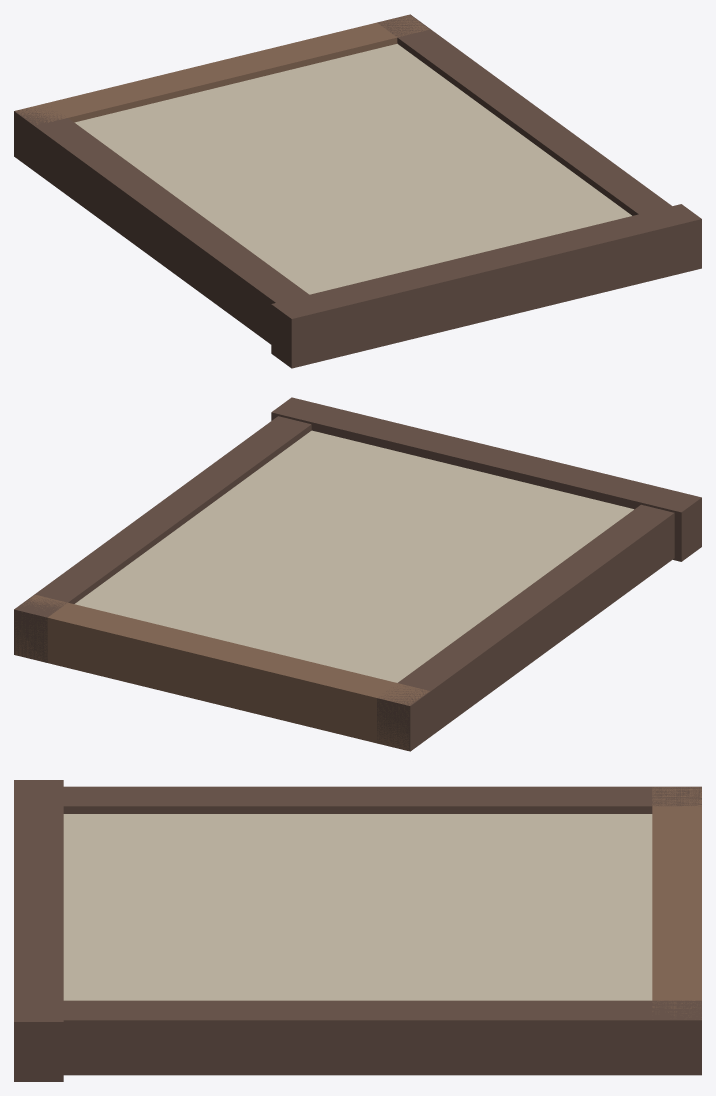
The model's file is tier02_half_timber_wall.glb.
3 renders of one model, top to bottom at view 1: azimuth 30°, elevation 25°; view 2: azimuth 150°, elevation 25°; view 3: azimuth 270°, elevation 25°, orthographic. The views are drawn at different scales.
Parts seen in each view (by area): view 1: tier02_half_timber_wall_000, tier02_half_timber_wall_003, tier02_half_timber_wall_001, tier02_half_timber_wall_002, tier02_half_timber_wall_004; view 2: tier02_half_timber_wall_000, tier02_half_timber_wall_004, tier02_half_timber_wall_001, tier02_half_timber_wall_003, tier02_half_timber_wall_002; view 3: tier02_half_timber_wall_000, tier02_half_timber_wall_002, tier02_half_timber_wall_001, tier02_half_timber_wall_003, tier02_half_timber_wall_004.
Part boxes in pixels (box(x1,y1,x2,y2)): tier02_half_timber_wall_000: box(74, 43, 631, 294); tier02_half_timber_wall_003: box(271, 204, 701, 368); tier02_half_timber_wall_001: box(14, 107, 332, 364); tier02_half_timber_wall_002: box(377, 14, 694, 275); tier02_half_timber_wall_004: box(16, 15, 429, 124); tier02_half_timber_wall_000: box(74, 430, 633, 682); tier02_half_timber_wall_004: box(15, 594, 429, 750); tier02_half_timber_wall_001: box(377, 504, 674, 751); tier02_half_timber_wall_003: box(271, 397, 701, 561); tier02_half_timber_wall_002: box(14, 416, 311, 662); tier02_half_timber_wall_000: box(63, 814, 652, 1000); tier02_half_timber_wall_002: box(63, 1000, 701, 1075); tier02_half_timber_wall_001: box(63, 786, 701, 813); tier02_half_timber_wall_003: box(14, 780, 63, 1081); tier02_half_timber_wall_004: box(652, 787, 701, 1019).
Bounding box in the file's own units: 2.08 × 0.305 × 2.5.
